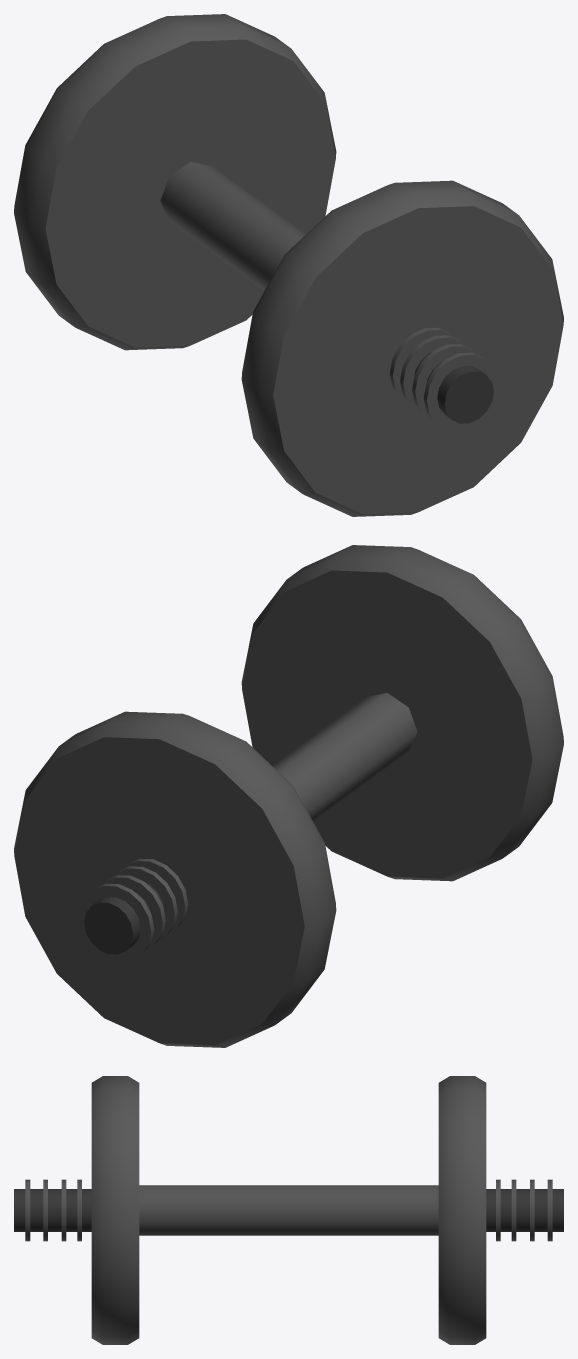
The model's file is dumbell_light.fbx.
The picture shows the model from 3 angles, top to bottom: view 1: azimuth 30°, elevation 25°; view 2: azimuth 150°, elevation 25°; view 3: azimuth 270°, elevation 25°; orthographic projection. The views are drawn at different scales.
Parts seen in each view (by area): view 1: Cylinder; view 2: Cylinder; view 3: Cylinder.
Boxes of the visible parts, <box> form: Cylinder: <box>14,14,563,516</box>; Cylinder: <box>14,545,563,1047</box>; Cylinder: <box>14,1076,563,1344</box>.
Bounding box in the file's own units: 290 × 290 × 593.
